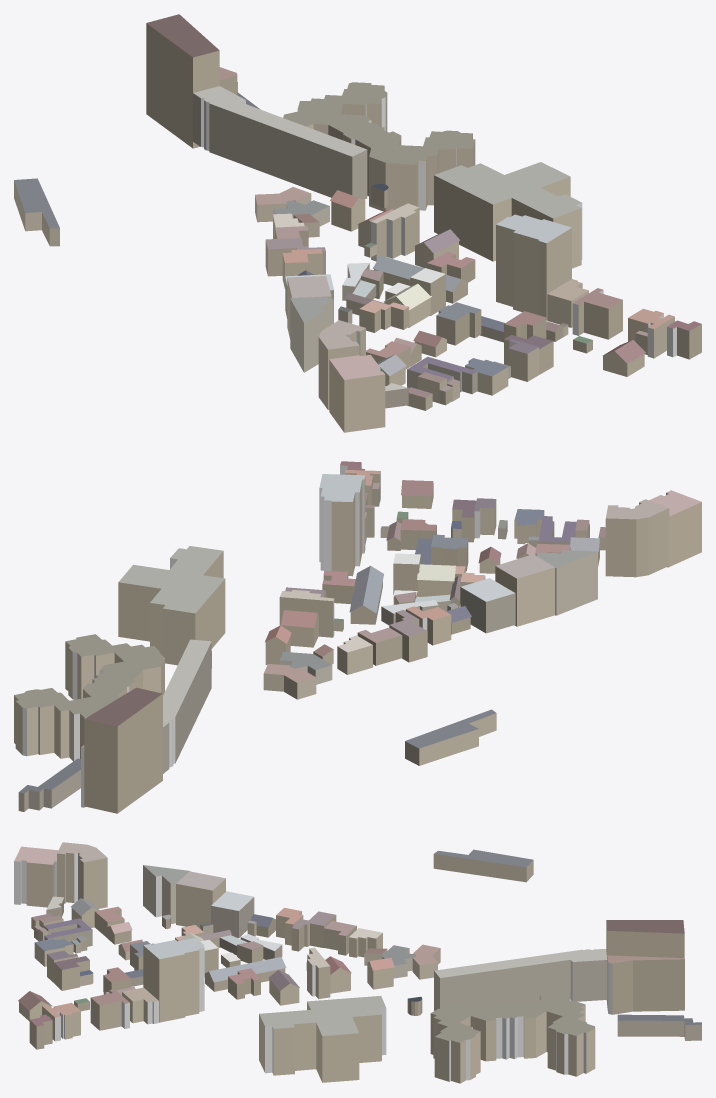
3 renders of one model, top to bottom at view 1: azimuth 30°, elevation 25°; view 2: azimuth 150°, elevation 25°; view 3: azimuth 270°, elevation 25°, orthographic. The views are drawn at different scales.
Parts seen in each view (by area): view 1: tuile; view 2: tuile; view 3: tuile.
Part boxes in pixels (box(x1,y1,x2,y2)): tuile: box(14, 14, 701, 432); tuile: box(14, 461, 701, 813); tuile: box(14, 842, 701, 1083).
Bounding box in the file's own units: 171 × 39.88 × 274.
